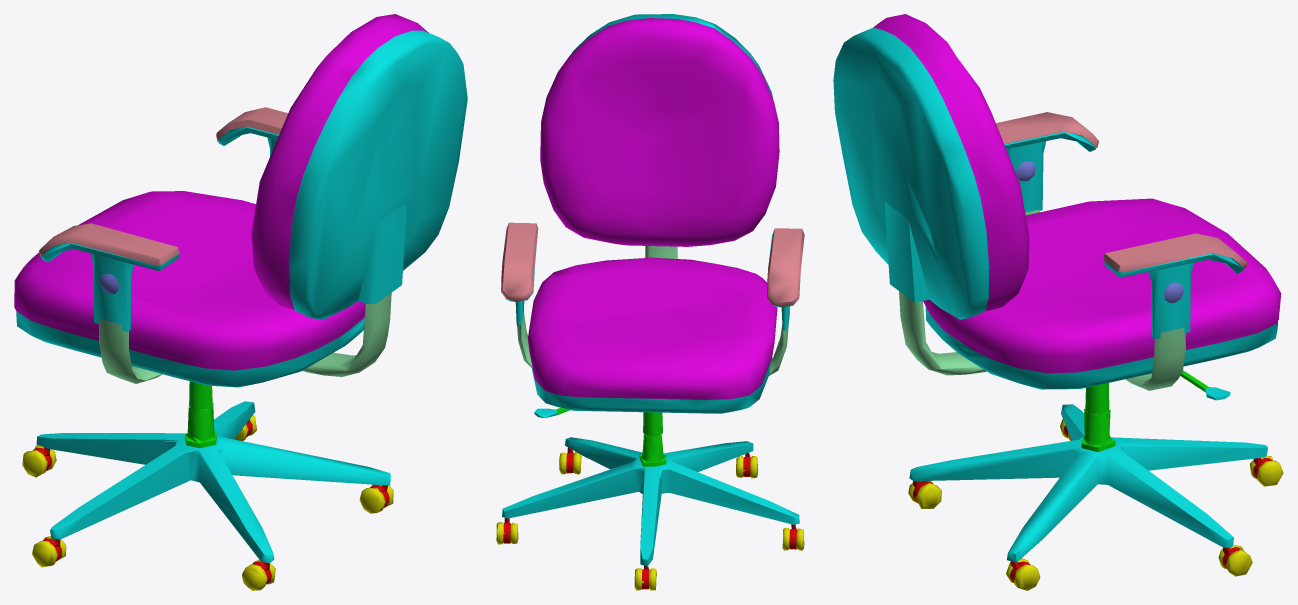
The model's file is Chair.glb.
3 renders of one model, left to right at view 1: azimuth 30°, elevation 25°; view 2: azimuth 150°, elevation 25°; view 3: azimuth 270°, elevation 25°, orthographic. The views are drawn at different scales.
Visible parts, largest first — view 1: Anim.004, Black Office Chair.004; view 2: Anim.004, Black Office Chair.004; view 3: Anim.004, Black Office Chair.004.
Part boxes in pixels (x1=…): Anim.004: x1=14, y1=14, x2=467, y2=410; Black Office Chair.004: x1=22, y1=401, x2=393, y2=590; Anim.004: x1=501, y1=14, x2=804, y2=436; Black Office Chair.004: x1=496, y1=434, x2=804, y2=590; Anim.004: x1=833, y1=14, x2=1281, y2=414; Black Office Chair.004: x1=908, y1=404, x2=1283, y2=590.
Bounding box in the file's own units: 0.7769 × 1.06 × 0.8189.
